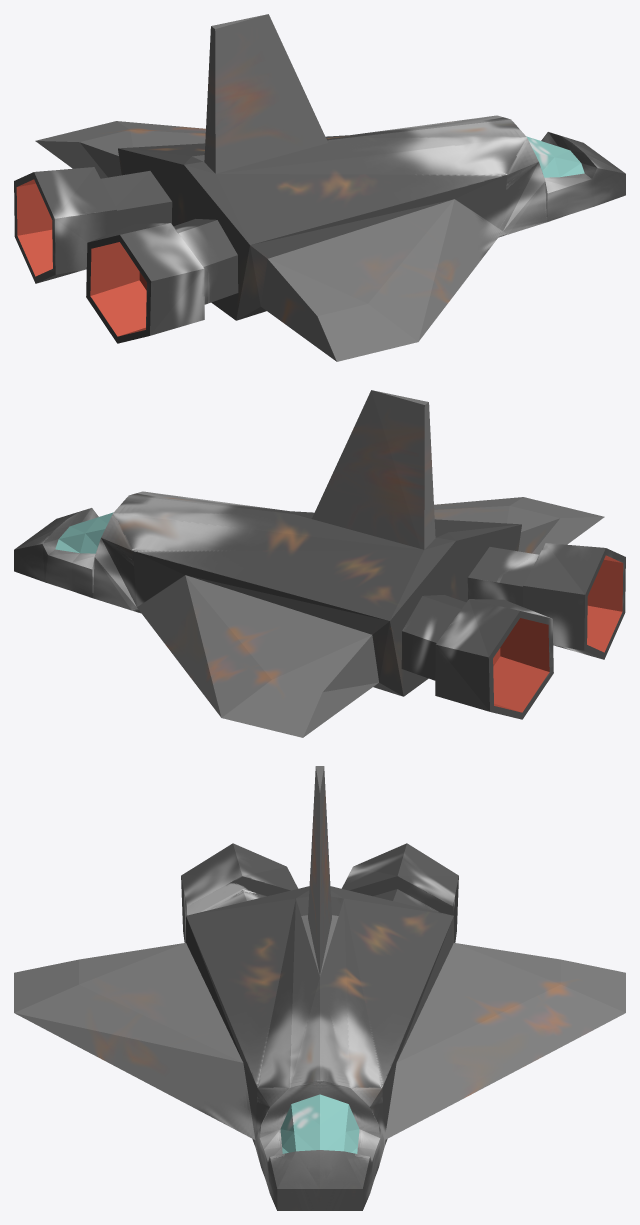
The model's file is player.obj.
3 renders of one model, top to bottom at view 1: azimuth 30°, elevation 25°; view 2: azimuth 150°, elevation 25°; view 3: azimuth 270°, elevation 25°, orthographic.
Parts seen in each view (by area): view 1: 立方体.001; view 2: 立方体.001; view 3: 立方体.001.
Boxes of the visible parts, x1,y1,x2,y2 form: 立方体.001: (14,14,625,361); 立方体.001: (14,390,625,737); 立方体.001: (14,766,625,1210).
Bounding box in the file's own units: 3.45 × 1.56 × 3.38.
